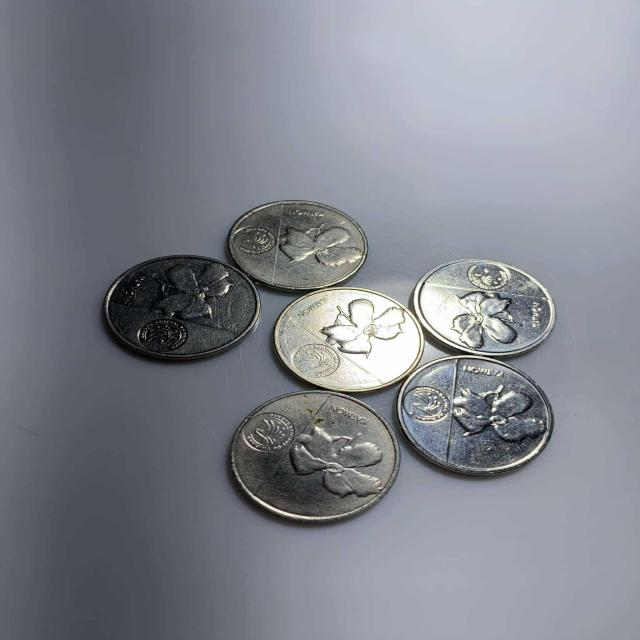25Cent_New_Back: (282, 412, 396, 506), (442, 369, 552, 455), (315, 289, 422, 356), (436, 284, 535, 354), (147, 258, 251, 324), (274, 214, 365, 283)
